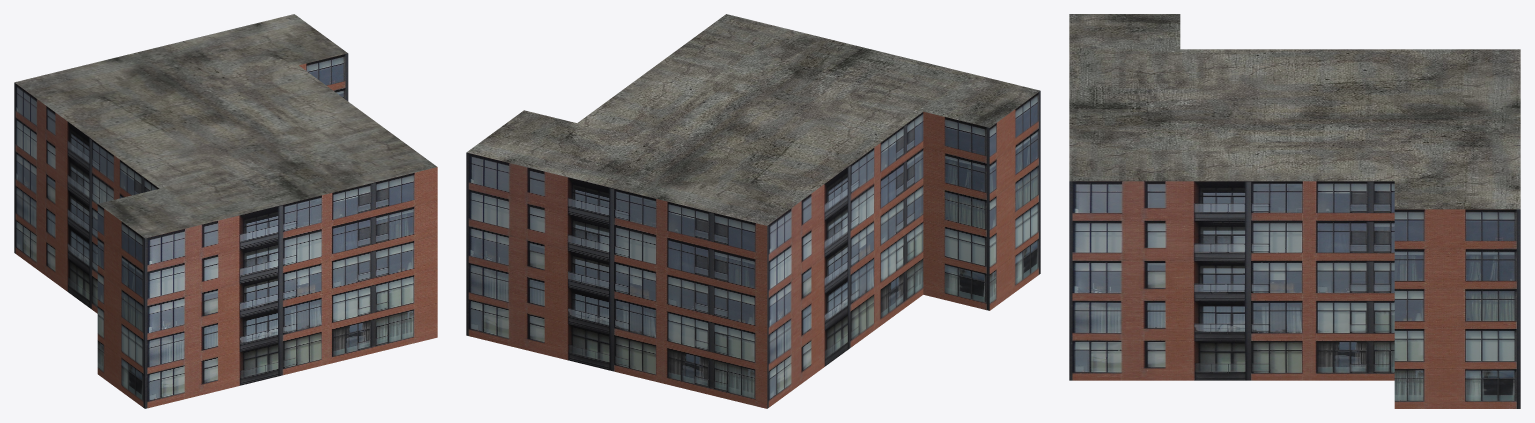
File: Building3.fbx
3 views of the same model, side by side, from view 1: azimuth 30°, elevation 25°; view 2: azimuth 150°, elevation 25°; view 3: azimuth 270°, elevation 25° (orthographic). The views are drawn at different scales.
Parts seen in each view (by area): view 1: Building2; view 2: Building2; view 3: Building2.
Part boxes in pixels (x1,y1,x2,y2): Building2: (14,14,437,408); Building2: (466,14,1040,408); Building2: (1069,14,1520,408).
Bounding box in the file's own units: 41173 × 19608 × 40170.
